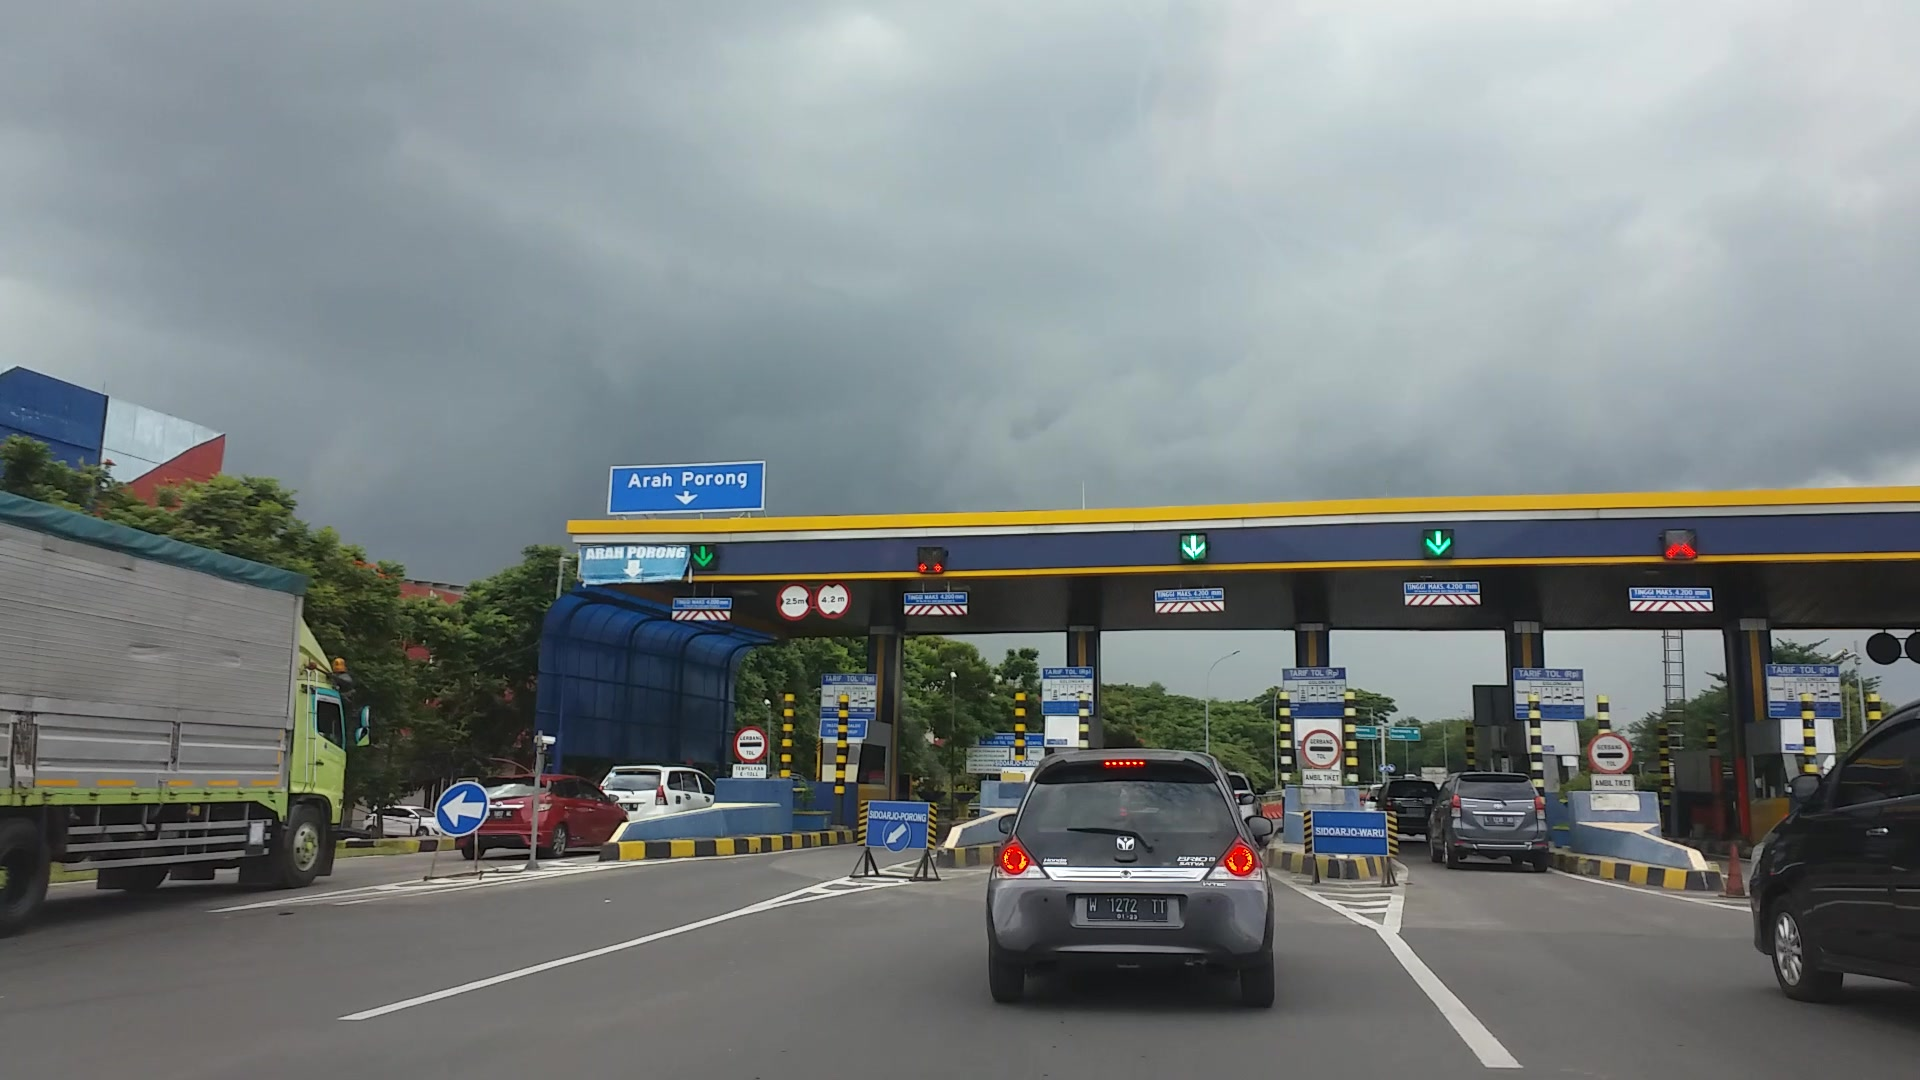plate_positive: (1087, 891, 1167, 922)
